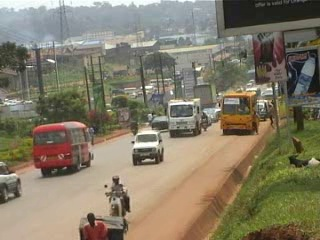Car: (129, 127, 166, 168), (0, 159, 25, 205), (148, 113, 171, 131), (200, 104, 218, 123)
Motorcycle: (102, 174, 132, 219), (127, 115, 140, 136), (199, 111, 209, 132)
